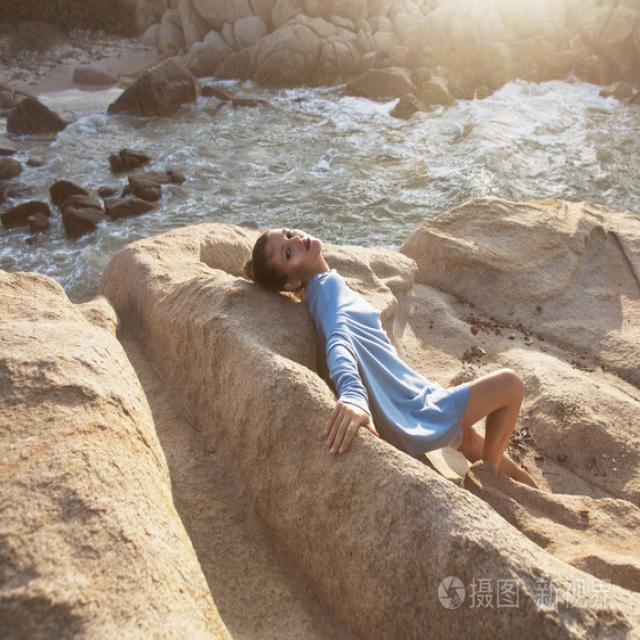reef: (8, 81, 201, 225)
